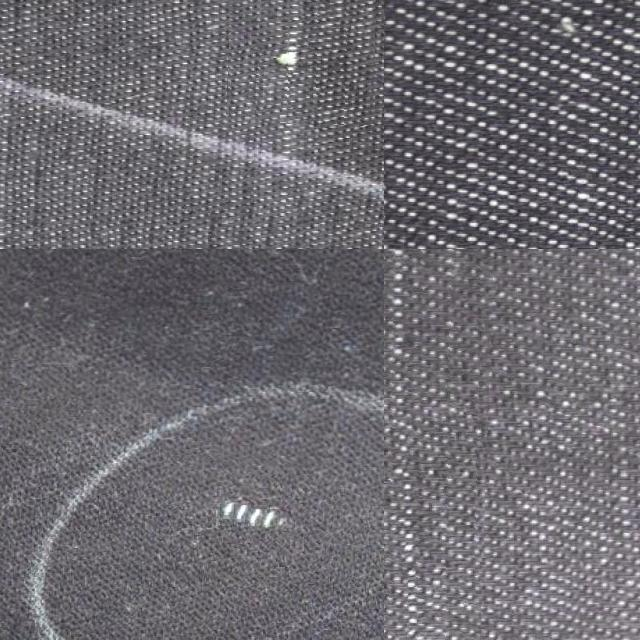stains: (384, 249, 489, 640), (169, 457, 331, 581), (227, 0, 379, 125)
